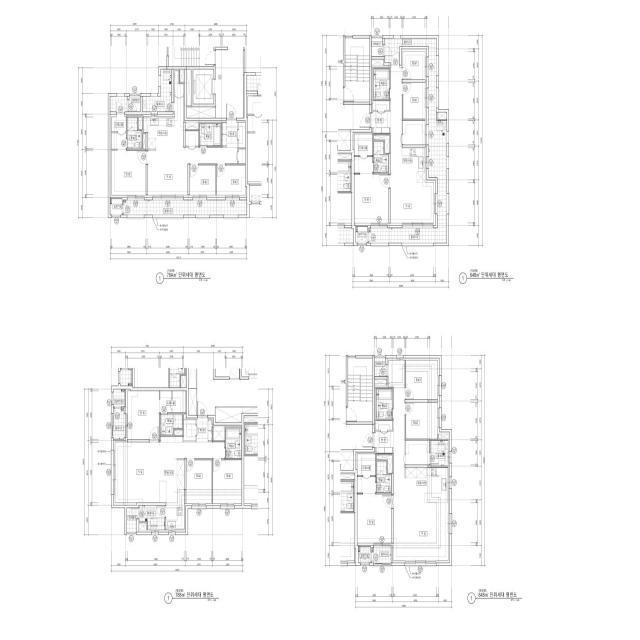space_balconi: (369, 38, 447, 243), (123, 200, 247, 215), (142, 69, 171, 112), (140, 506, 165, 530), (430, 441, 448, 466), (113, 408, 125, 439), (372, 546, 391, 563)
space_bedroom: (357, 494, 391, 543), (354, 174, 388, 223), (112, 150, 146, 195), (128, 391, 159, 439), (406, 360, 438, 400), (213, 460, 242, 503), (406, 403, 438, 439), (186, 460, 212, 503), (217, 165, 245, 195), (403, 83, 425, 119), (190, 165, 216, 195), (403, 51, 425, 80)
space_dressroom: (354, 134, 373, 173), (357, 454, 376, 493), (160, 391, 185, 413), (112, 114, 126, 149)
space_elevator: (193, 70, 214, 104)
space_elevator_hall: (216, 50, 243, 118)
space_front: (222, 119, 238, 147), (374, 432, 393, 454), (371, 112, 390, 134), (197, 417, 212, 442)
space_kitchen: (143, 71, 183, 148), (405, 468, 448, 503), (166, 459, 184, 530), (402, 148, 425, 183)
space_living_room: (389, 360, 448, 561), (115, 437, 225, 503), (390, 67, 434, 223), (148, 147, 238, 195)
space_other: (406, 441, 429, 465), (403, 121, 425, 145), (110, 96, 140, 112), (187, 107, 216, 118), (374, 135, 389, 153), (377, 455, 392, 473), (127, 508, 138, 532), (184, 420, 196, 441), (375, 358, 387, 376), (185, 131, 199, 146), (372, 38, 383, 57), (189, 389, 197, 415), (213, 427, 225, 441), (376, 420, 392, 430), (239, 123, 245, 148), (187, 69, 191, 106), (373, 101, 389, 110), (185, 122, 199, 130), (239, 149, 245, 164), (372, 59, 384, 65), (375, 379, 387, 385), (437, 112, 447, 119), (139, 523, 146, 530), (138, 117, 142, 129), (143, 134, 146, 149), (439, 434, 448, 439), (174, 430, 183, 435), (180, 71, 184, 82)
space_outdoor_room: (113, 389, 125, 407), (358, 547, 371, 563), (356, 227, 368, 243)
space_staircase: (345, 38, 370, 102), (348, 358, 372, 422)
space_toilet: (160, 414, 183, 435), (127, 117, 142, 149), (376, 389, 392, 419), (200, 124, 221, 146), (226, 428, 241, 458), (374, 69, 389, 99), (377, 461, 391, 493), (374, 141, 388, 173)
